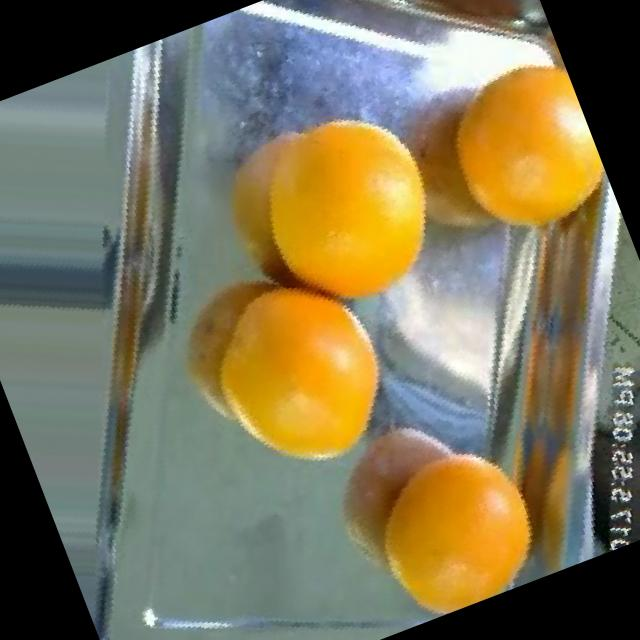Fruit: (171, 266, 435, 514), (365, 0, 556, 96)
